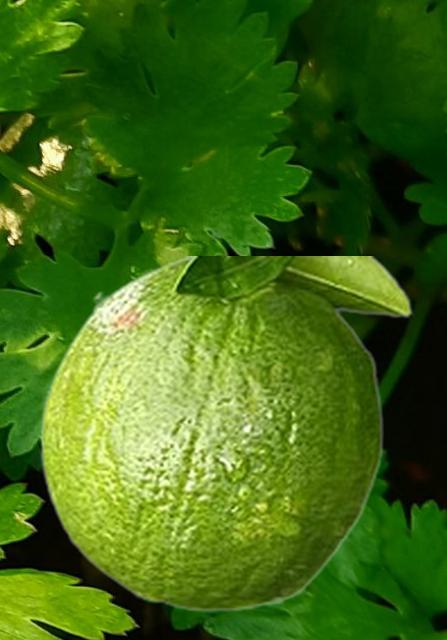dalandan: (39, 256, 412, 611)
